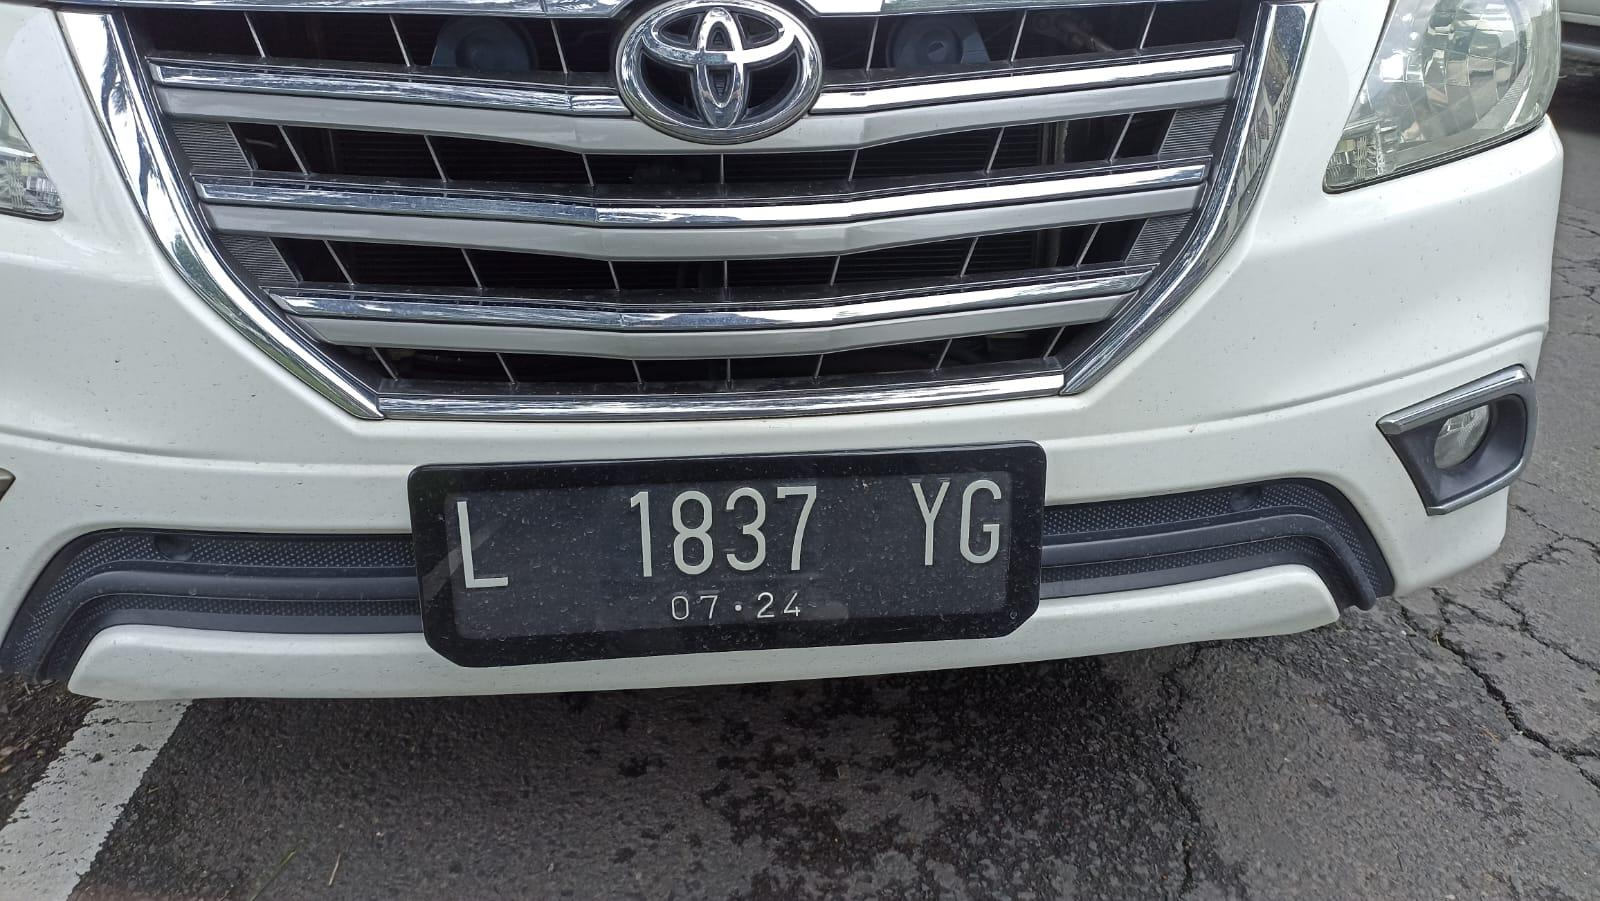plat: (410, 444, 1044, 669)
